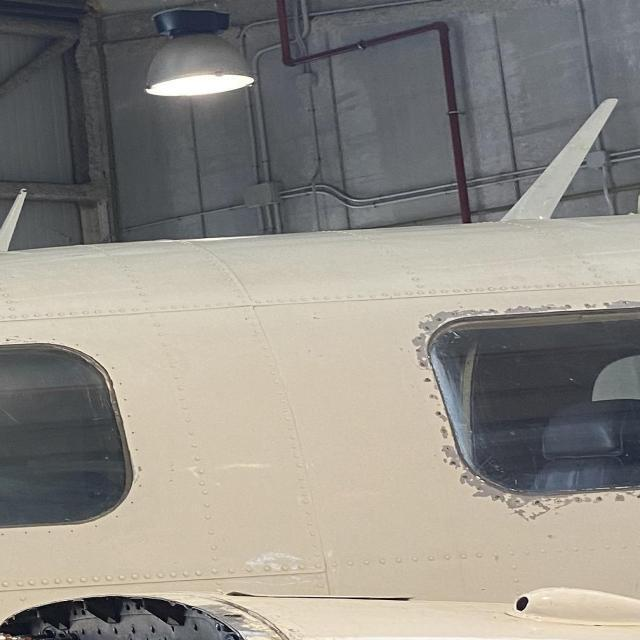Paint-off: (411, 305, 467, 359), (533, 501, 561, 520), (514, 507, 545, 522), (443, 446, 457, 461), (439, 411, 451, 425), (623, 488, 635, 500)
